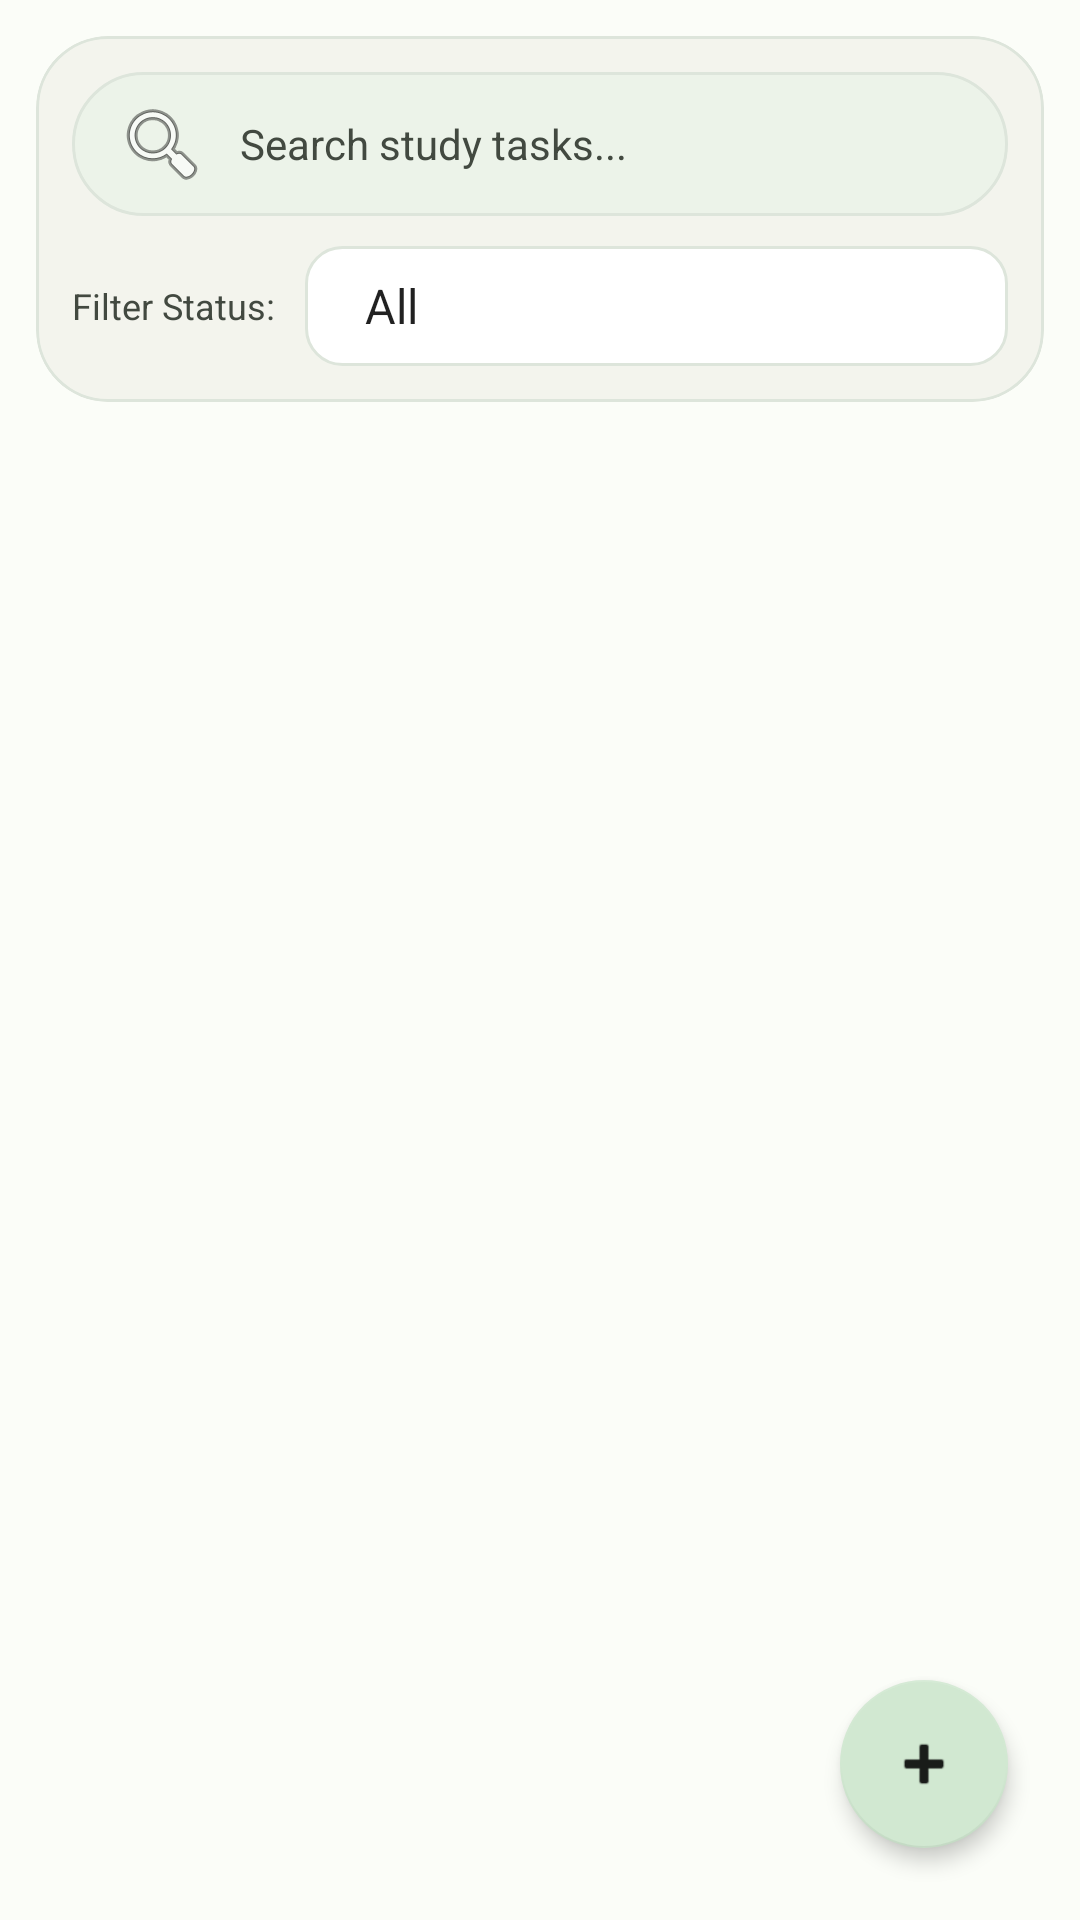

Point at icon controls on the screen. Image size 1080*1920, points as [x,y].
Add Task: [924,1764]
